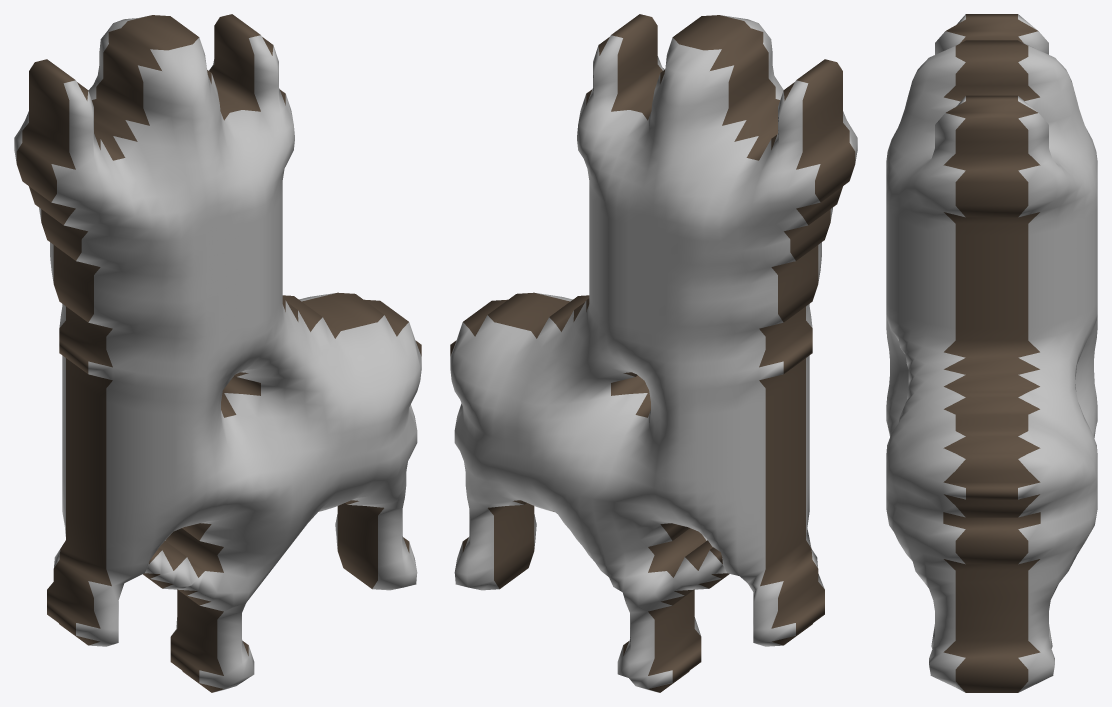
The model's file is bone_chair.glb.
The picture shows the model from 3 angles, left to right: view 1: azimuth 30°, elevation 25°; view 2: azimuth 150°, elevation 25°; view 3: azimuth 270°, elevation 25°; orthographic projection. The views are drawn at different scales.
Visible parts, largest first — view 1: bone_chair; view 2: bone_chair; view 3: bone_chair.
Part boxes in pixels (x1,y1,x2,y2): bone_chair: [14, 14, 421, 692]; bone_chair: [450, 14, 857, 692]; bone_chair: [886, 14, 1097, 692].
Size of the model in its own units: 0.5192 by 0.8827 by 0.2838.
